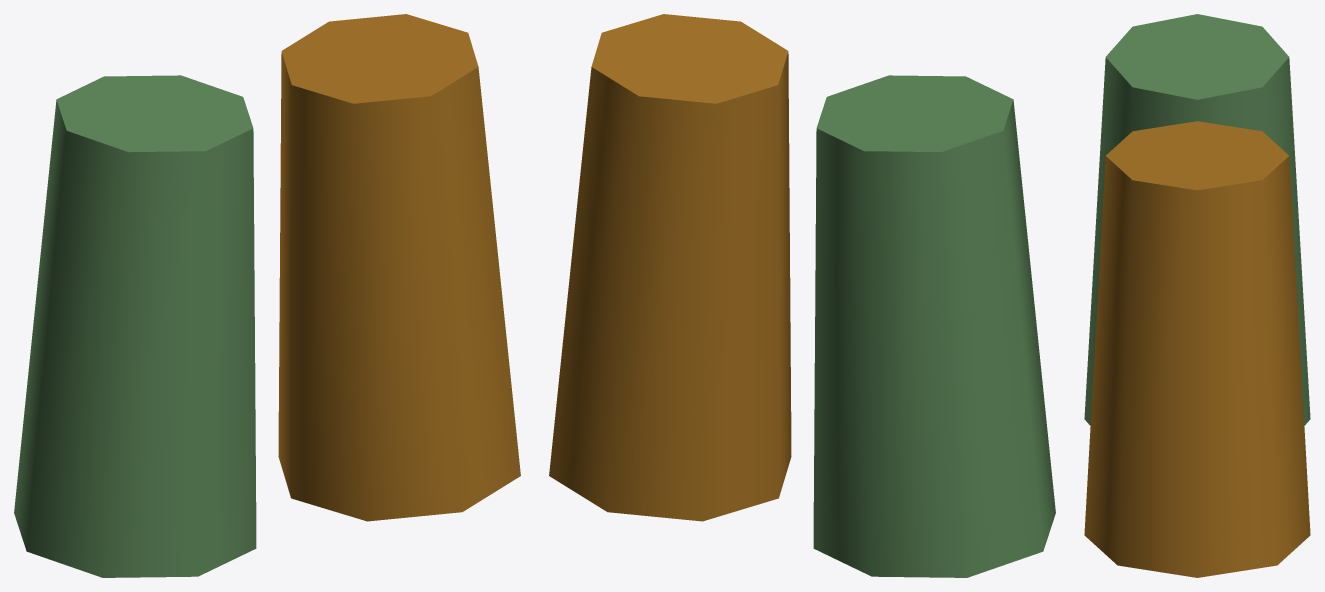
The model's file is legs.glb.
3 views of the same model, side by side, from view 1: azimuth 30°, elevation 25°; view 2: azimuth 150°, elevation 25°; view 3: azimuth 270°, elevation 25° (orthographic). The views are drawn at different scales.
Parts seen in each view (by area): view 1: greave_-1, greave_1; view 2: greave_-1, greave_1; view 3: greave_1, greave_-1.
Part boxes in pixels (x1=…): greave_-1: x1=14, y1=75, x2=256, y2=577; greave_1: x1=278, y1=14, x2=520, y2=521; greave_-1: x1=813, y1=75, x2=1055, y2=577; greave_1: x1=549, y1=14, x2=791, y2=521; greave_1: x1=1084, y1=121, x2=1310, y2=577; greave_-1: x1=1084, y1=14, x2=1310, y2=425.
Bounding box in the file's own units: 0.7086 × 0.5938 × 0.32.
